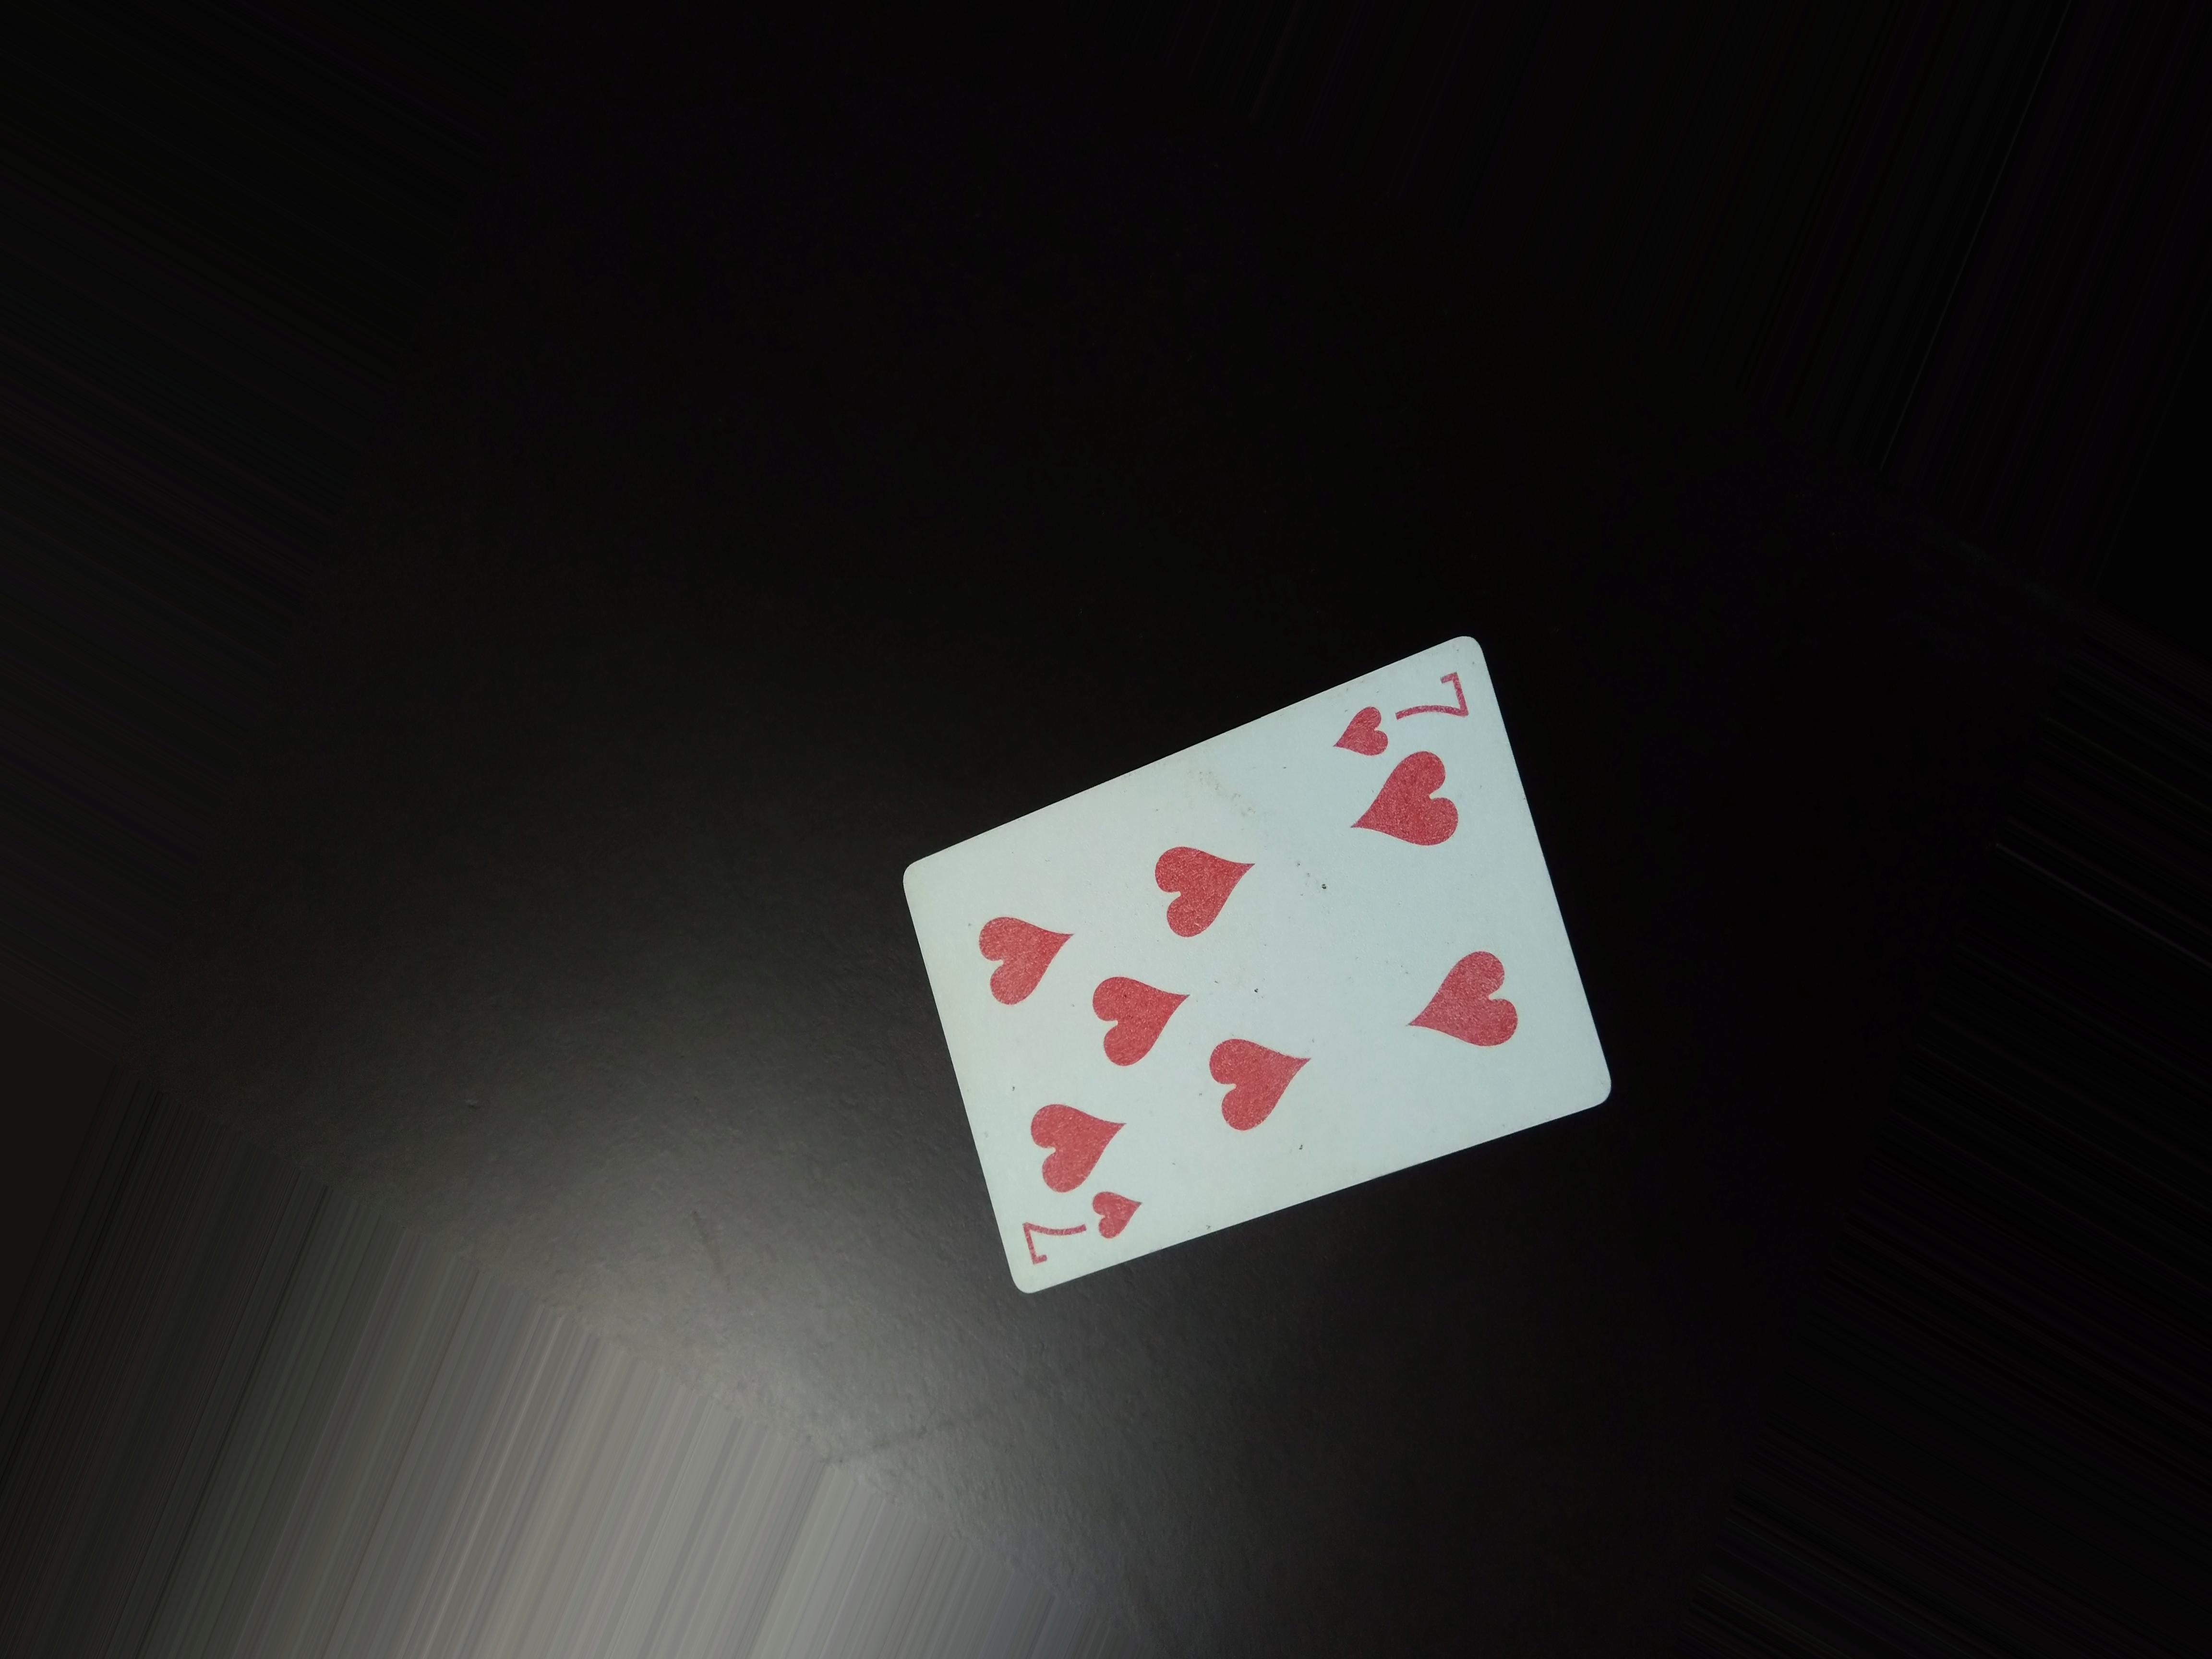7H: (1325, 652, 1482, 765)
